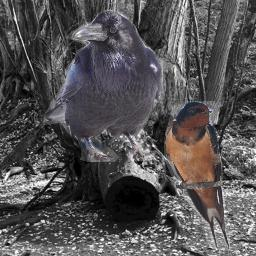Crow: (43, 8, 163, 162)
Swallow: (164, 101, 230, 250)
